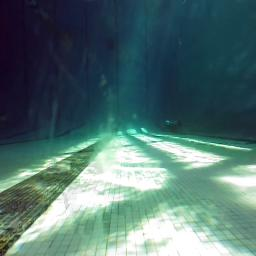Full: (106, 44, 116, 50)
front: (162, 118, 182, 134)
